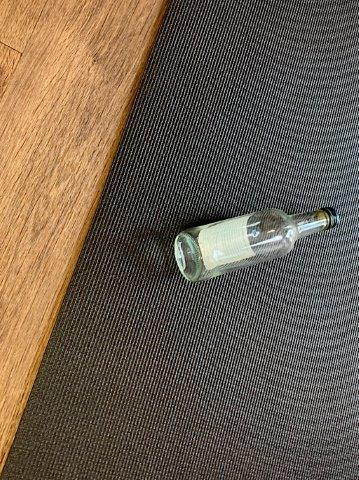botolkaca: (175, 208, 339, 280)
